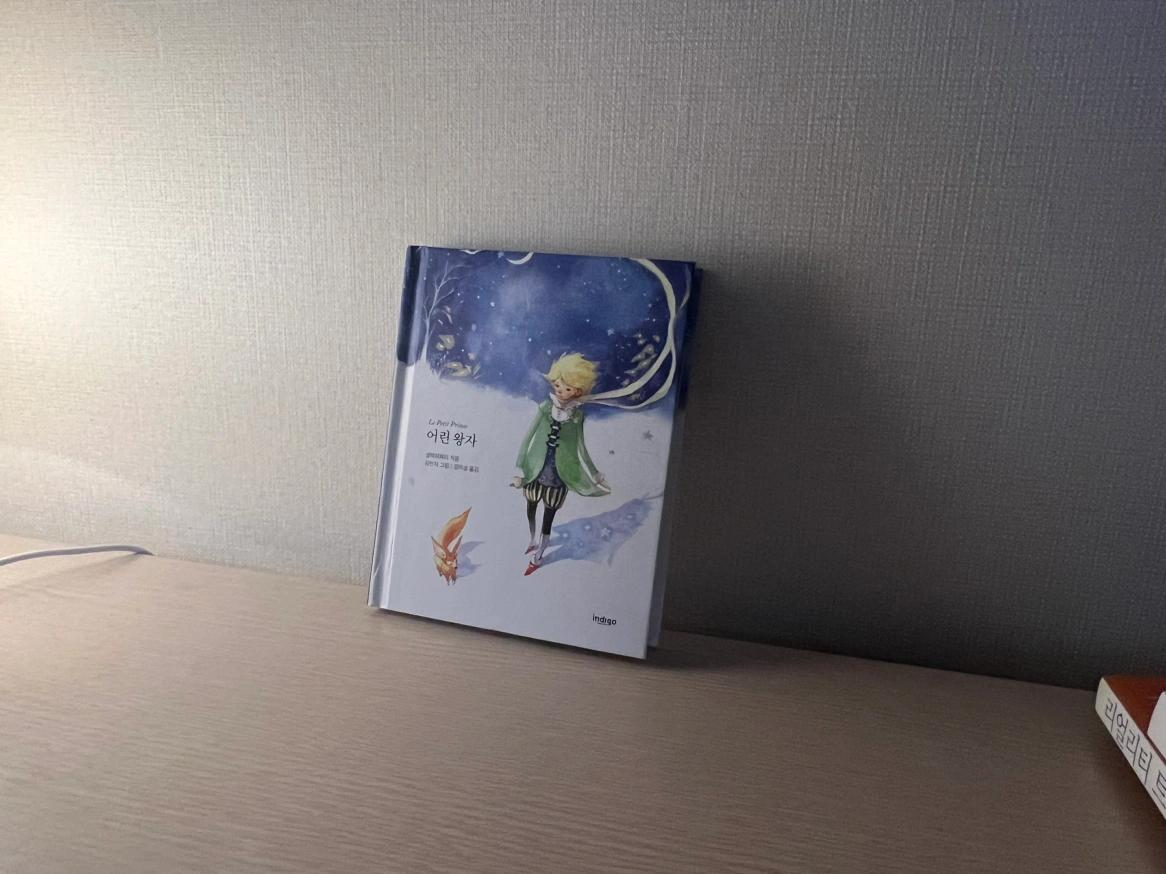book: (366, 243, 697, 660)
